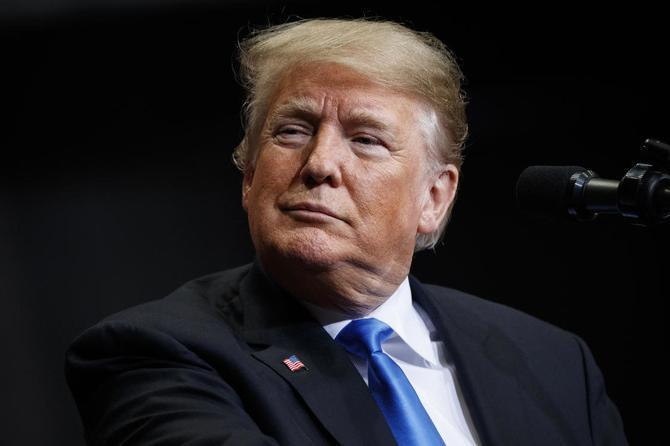Sober: (268, 74, 415, 263)
